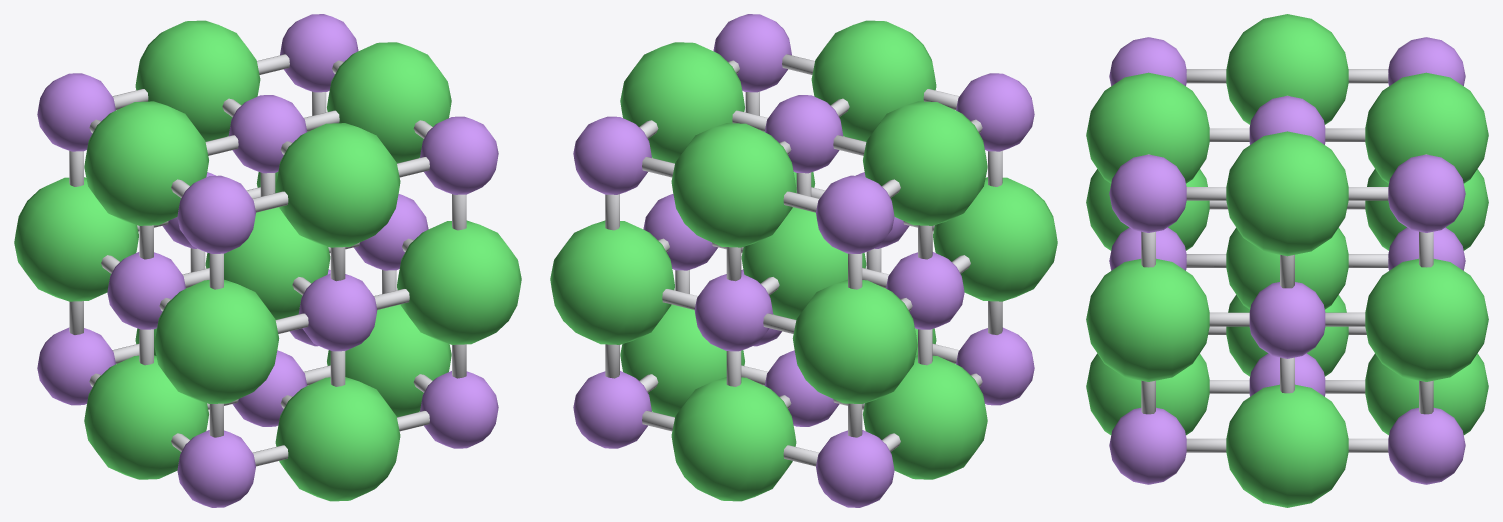
Rendered from Mol_NaCl_Sal.glb.
3 renders of one model, left to right at view 1: azimuth 30°, elevation 25°; view 2: azimuth 150°, elevation 25°; view 3: azimuth 270°, elevation 25°, orthographic.
Visible parts, largest first — view 1: NaCl_Iones_Cl, NaCl_Iones_Na, NaCl_Red_Enlaces; view 2: NaCl_Iones_Cl, NaCl_Iones_Na, NaCl_Red_Enlaces; view 3: NaCl_Iones_Cl, NaCl_Iones_Na, NaCl_Red_Enlaces.
Part boxes in pixels (left/top/right/bottom): NaCl_Iones_Cl: left=14, top=20, right=521, bottom=501; NaCl_Iones_Na: left=37, top=14, right=498, bottom=507; NaCl_Red_Enlaces: left=69, top=54, right=466, bottom=466; NaCl_Iones_Cl: left=550, top=20, right=1057, bottom=501; NaCl_Iones_Na: left=573, top=14, right=1034, bottom=507; NaCl_Red_Enlaces: left=605, top=54, right=1002, bottom=466; NaCl_Iones_Cl: left=1086, top=14, right=1488, bottom=507; NaCl_Iones_Na: left=1109, top=37, right=1465, bottom=484; NaCl_Red_Enlaces: left=1141, top=69, right=1433, bottom=452.
Bounding box in the file's own units: 0.087 × 0.087 × 0.087.
